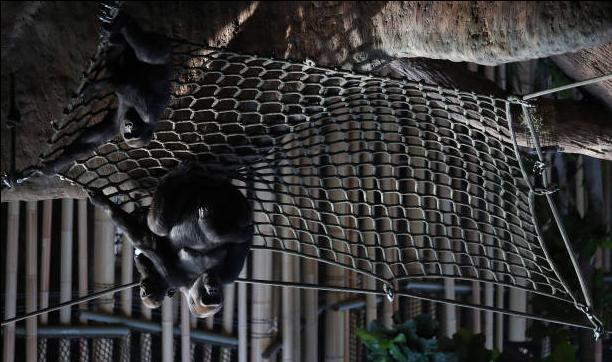gorille_Autres: (128, 176, 250, 324)
